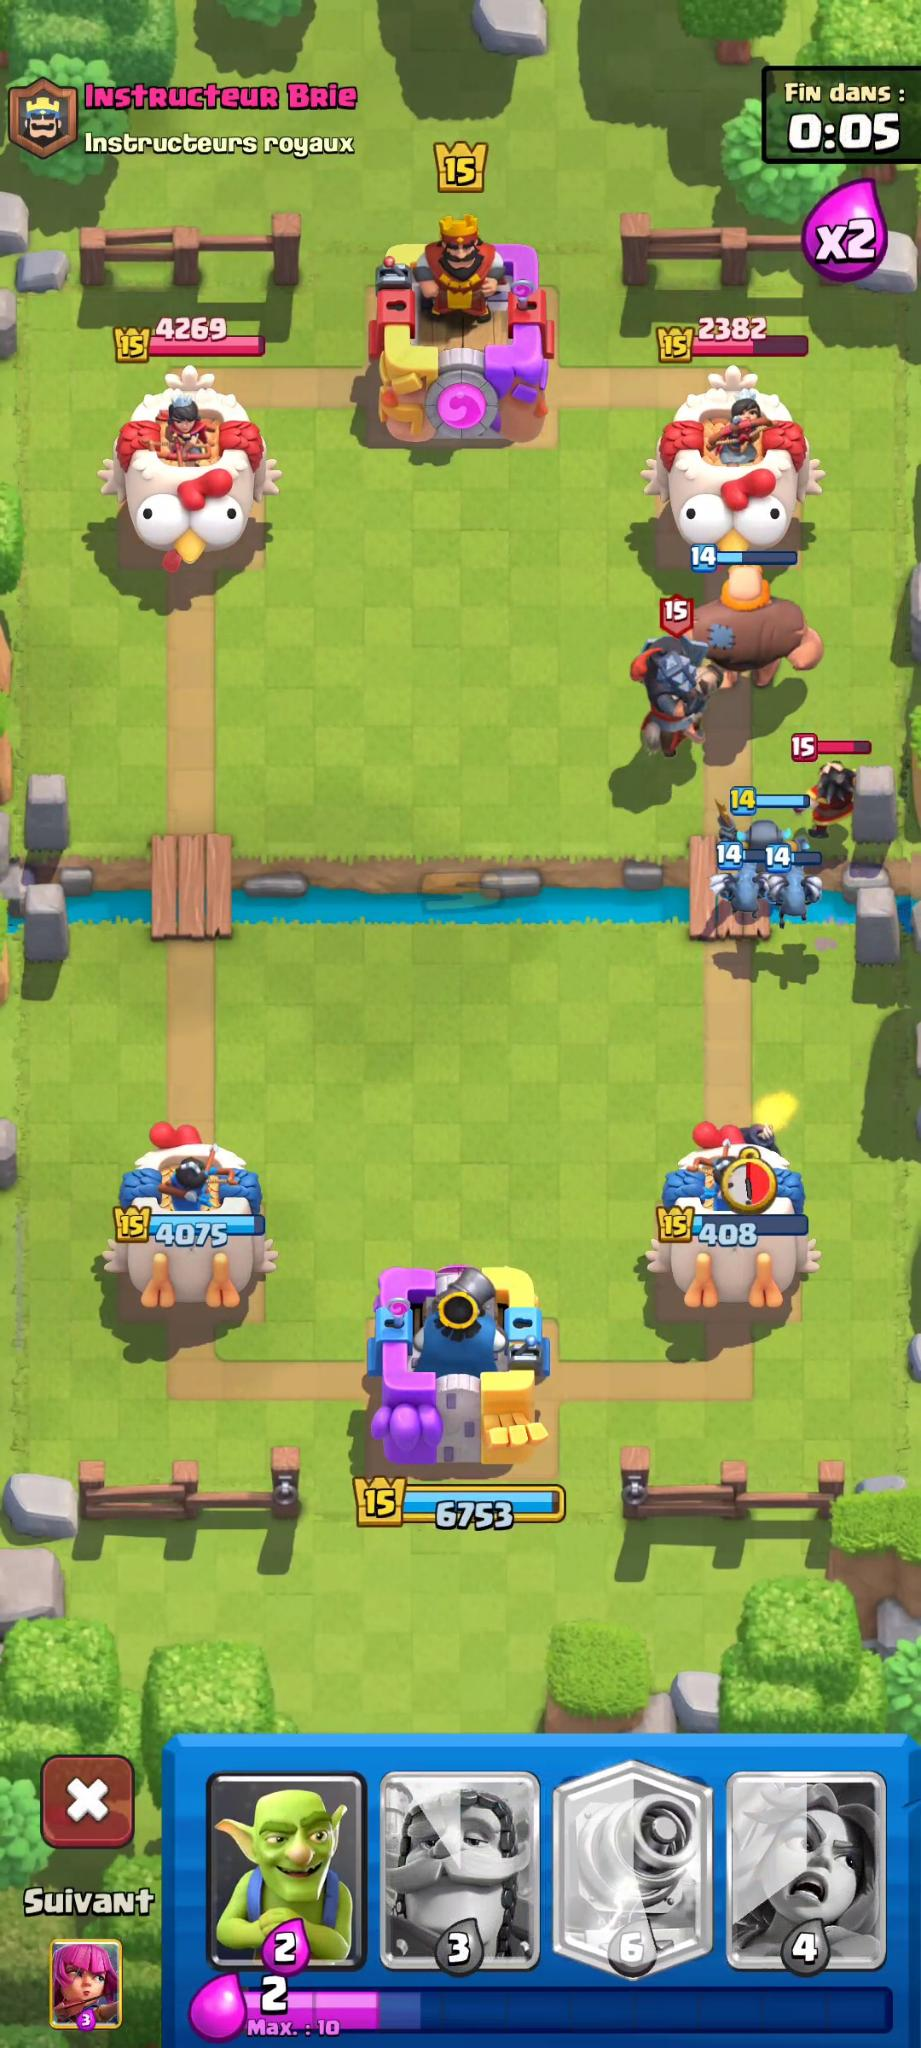gargouille: (705, 848, 771, 926), (772, 858, 832, 935)
geant: (653, 562, 833, 686)
mini_PEKKA: (719, 806, 802, 870)
